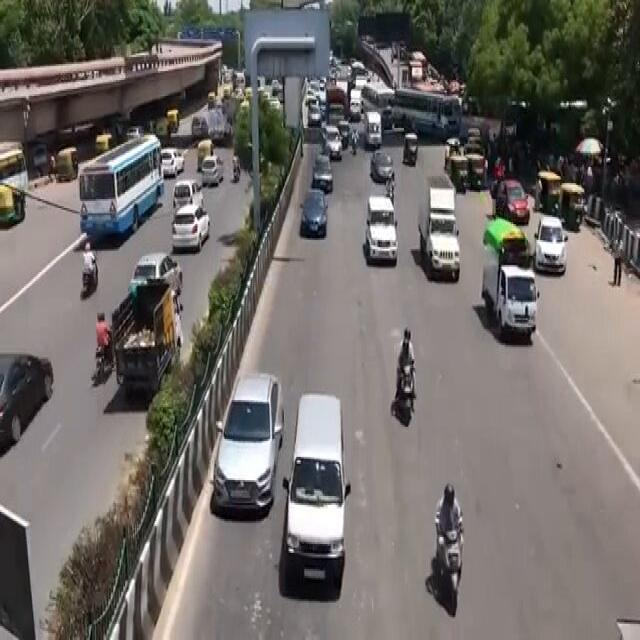three_wheeler: (448, 153, 473, 194)
